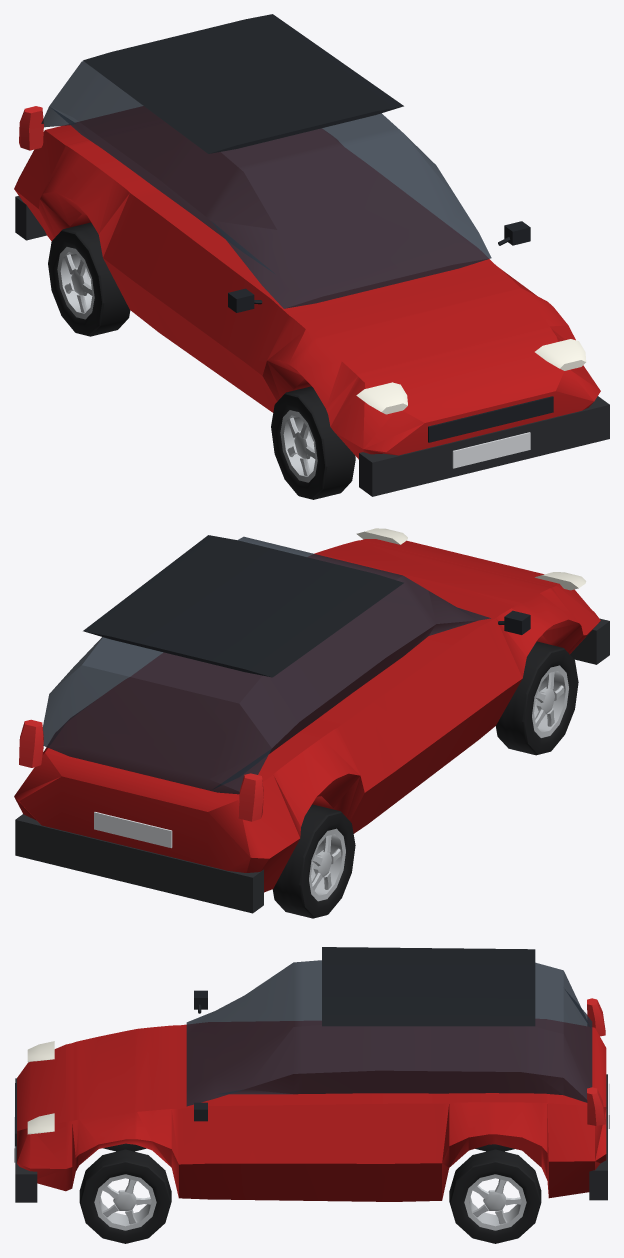
The model's file is chevy_bolt_ev.far.glb.
3 views of the same model, one above another, from view 1: azimuth 30°, elevation 25°; view 2: azimuth 150°, elevation 25°; view 3: azimuth 270°, elevation 25° (orthographic). The views are drawn at different scales.
Visible parts, largest first — view 1: chevy_bolt_ev, front_right_wheel/tire, rear_right_wheel/tire, rear_right_wheel/rim, front_right_wheel/rim, rear_right_wheel, front_right_wheel; view 2: chevy_bolt_ev, rear_right_wheel/tire, front_right_wheel/tire, rear_right_wheel/rim, front_right_wheel/rim, front_right_wheel, rear_right_wheel; view 3: chevy_bolt_ev, front_left_wheel/tire, rear_left_wheel/tire, rear_left_wheel/rim, front_left_wheel/rim, rear_left_wheel, front_left_wheel.
Boxes of the visible parts, box(x1,y1,x2,y2) form: chevy_bolt_ev: box(14, 14, 609, 496); front_right_wheel/tire: box(271, 386, 355, 499); rear_right_wheel/tire: box(48, 222, 130, 336); rear_right_wheel/rim: box(57, 247, 94, 319); front_right_wheel/rim: box(280, 410, 317, 482); rear_right_wheel: box(64, 254, 92, 312); front_right_wheel: box(287, 417, 315, 476); chevy_bolt_ev: box(14, 528, 609, 913); rear_right_wheel/tire: box(272, 804, 355, 918); front_right_wheel/tire: box(495, 641, 578, 755); rear_right_wheel/rim: box(309, 828, 345, 901); front_right_wheel/rim: box(532, 665, 568, 737); front_right_wheel: box(535, 671, 564, 727); rear_right_wheel: box(312, 835, 340, 890); chevy_bolt_ev: box(14, 947, 609, 1202); front_left_wheel/tire: box(79, 1149, 171, 1243); rear_left_wheel/tire: box(449, 1149, 541, 1243); rear_left_wheel/rim: box(464, 1174, 526, 1230); front_left_wheel/rim: box(94, 1174, 156, 1230); rear_left_wheel: box(472, 1179, 521, 1224); front_left_wheel: box(102, 1179, 151, 1224).
Bounding box in the file's own units: 1.98 × 1.62 × 4.19.
